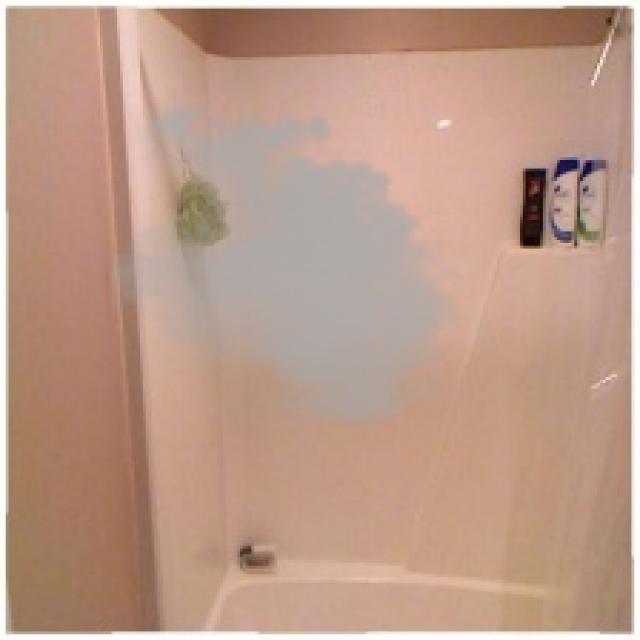smoke: (106, 92, 471, 434)
